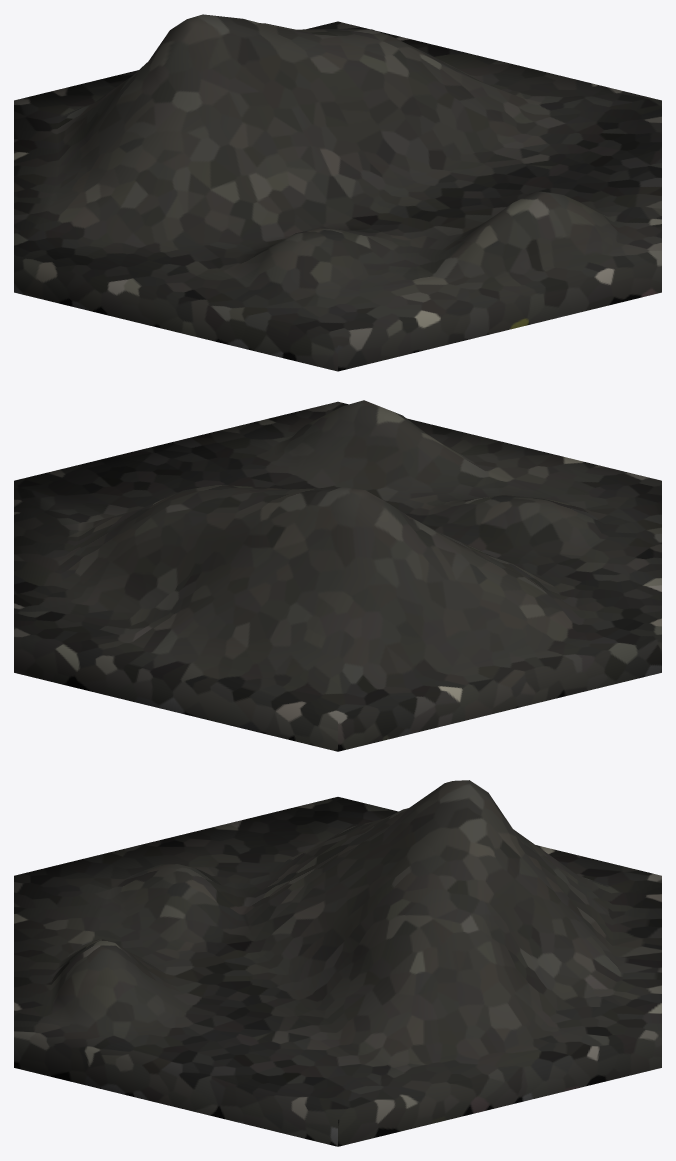
File: HexTop_CoalGround.fbx
3 renders of one model, top to bottom at view 1: azimuth 30°, elevation 25°; view 2: azimuth 150°, elevation 25°; view 3: azimuth 270°, elevation 25°, orthographic.
Parts seen in each view (by area): view 1: HexTop_CoalGround; view 2: HexTop_CoalGround; view 3: HexTop_CoalGround.
Part boxes in pixels (<box>): HexTop_CoalGround: <box>14,14,661,371</box>; HexTop_CoalGround: <box>14,400,661,751</box>; HexTop_CoalGround: <box>14,780,661,1146</box>.
Bounding box in the file's own units: 100 × 24.68 × 86.6.
